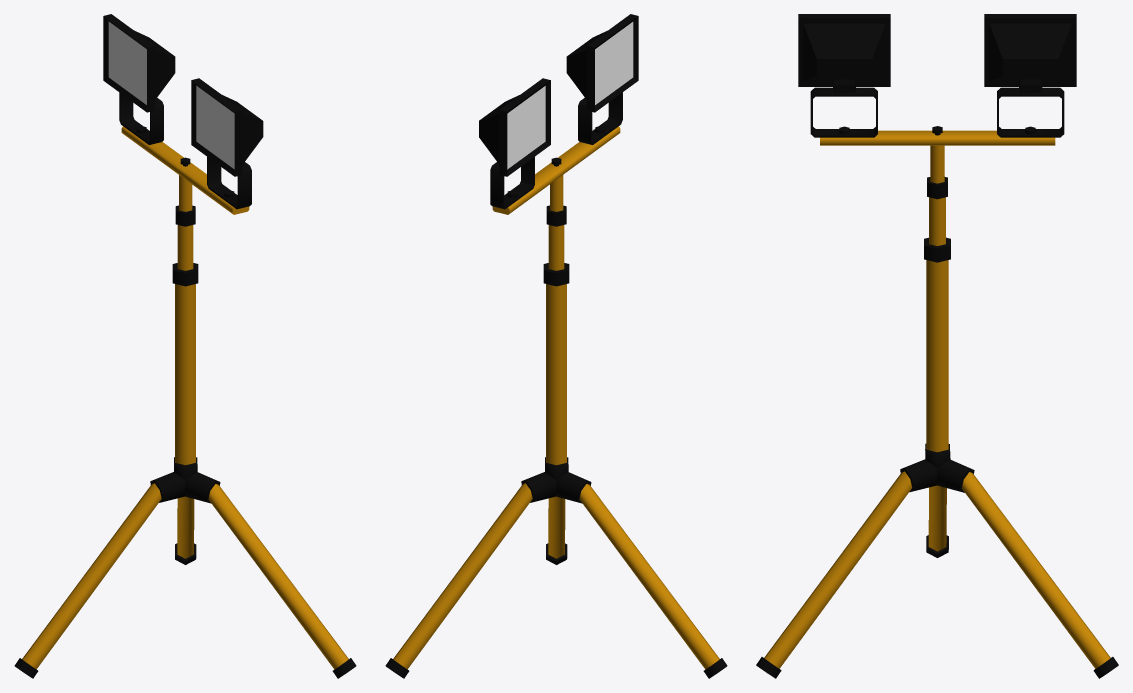
File: Construction_Light.fbx
The picture shows the model from 3 angles, left to right: view 1: azimuth 30°, elevation 25°; view 2: azimuth 150°, elevation 25°; view 3: azimuth 270°, elevation 25°; orthographic projection. The views are drawn at different scales.
Parts seen in each view (by area): view 1: construction light; view 2: construction light; view 3: construction light.
Boxes of the visible parts, box(x1,y1,x2,y2) form: construction light: box(14, 14, 356, 678); construction light: box(385, 14, 727, 678); construction light: box(756, 14, 1118, 678).
Bounding box in the file's own units: 29.29 × 62.29 × 33.29.
